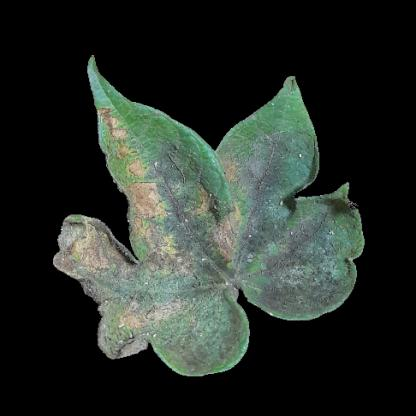sooty: (142, 159, 233, 308), (239, 163, 313, 291), (67, 232, 159, 301), (158, 308, 243, 368), (250, 138, 312, 169)
